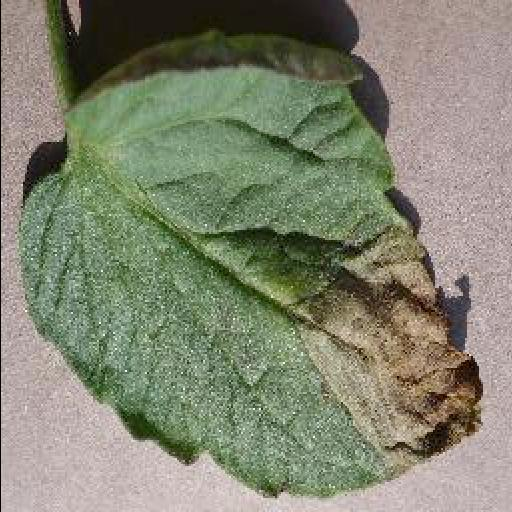disease_tomato: (17, 36, 487, 502)
